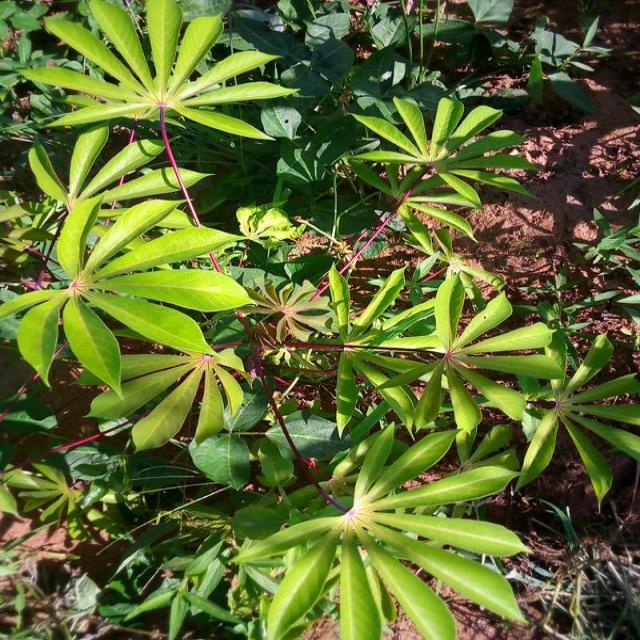cassava leaf: (231, 419, 530, 638)
